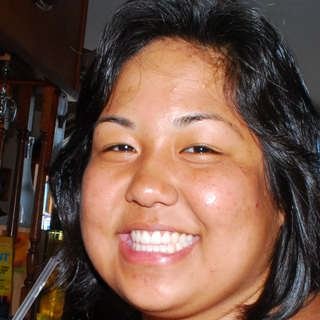eye: (177, 139, 224, 163), (99, 138, 143, 161)
